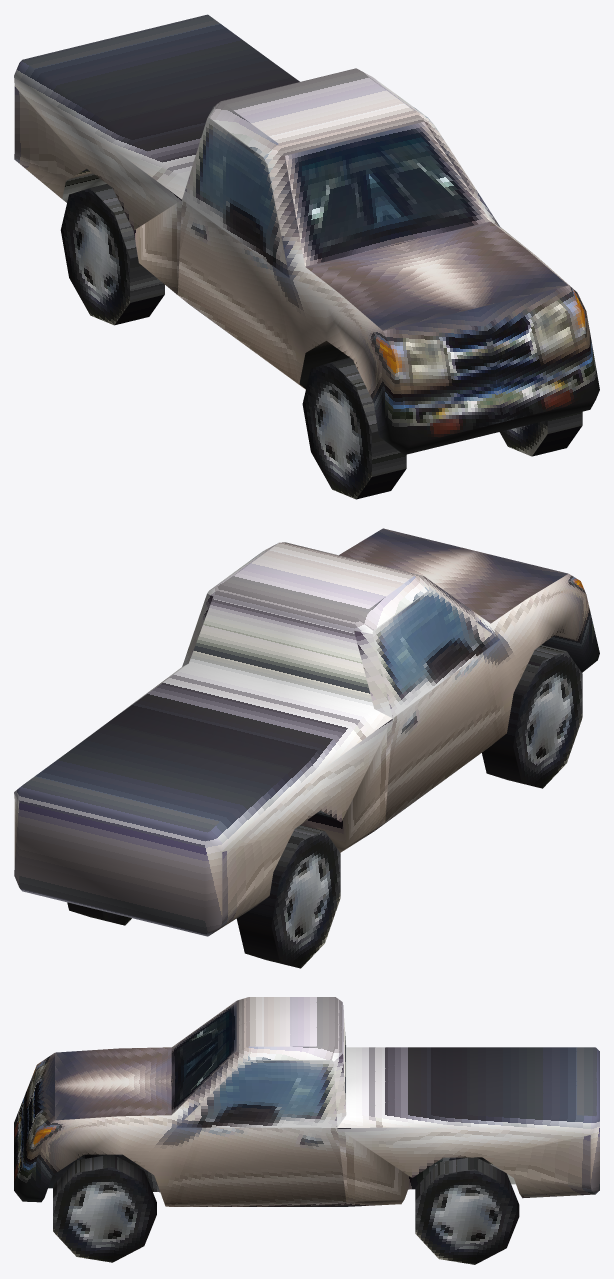
Rendered from truck.glb.
3 views of the same model, one above another, from view 1: azimuth 30°, elevation 25°; view 2: azimuth 150°, elevation 25°; view 3: azimuth 270°, elevation 25° (orthographic). The views are drawn at different scales.
Parts seen in each view (by area): view 1: Body, wheel4, wheel3, wheel; view 2: Body, wheel4, wheel3, whelel2; view 3: Body, whelel2, wheel.
Part boxes in pixels (<box>): Body: <box>14,14,599,454</box>; wheel4: <box>60,184,164,325</box>; wheel3: <box>302,357,406,499</box>; wheel: <box>499,411,582,456</box>; Body: <box>14,528,599,936</box>; wheel4: <box>236,825,340,968</box>; wheel3: <box>482,645,582,788</box>; whelel2: <box>67,902,131,925</box>; Body: <box>14,997,599,1206</box>; whelel2: <box>415,1157,519,1264</box>; wheel: <box>53,1154,156,1262</box>.
Bounding box in the file's own units: 6.11 × 7.56 × 19.63.
1 material, 1 textured.
